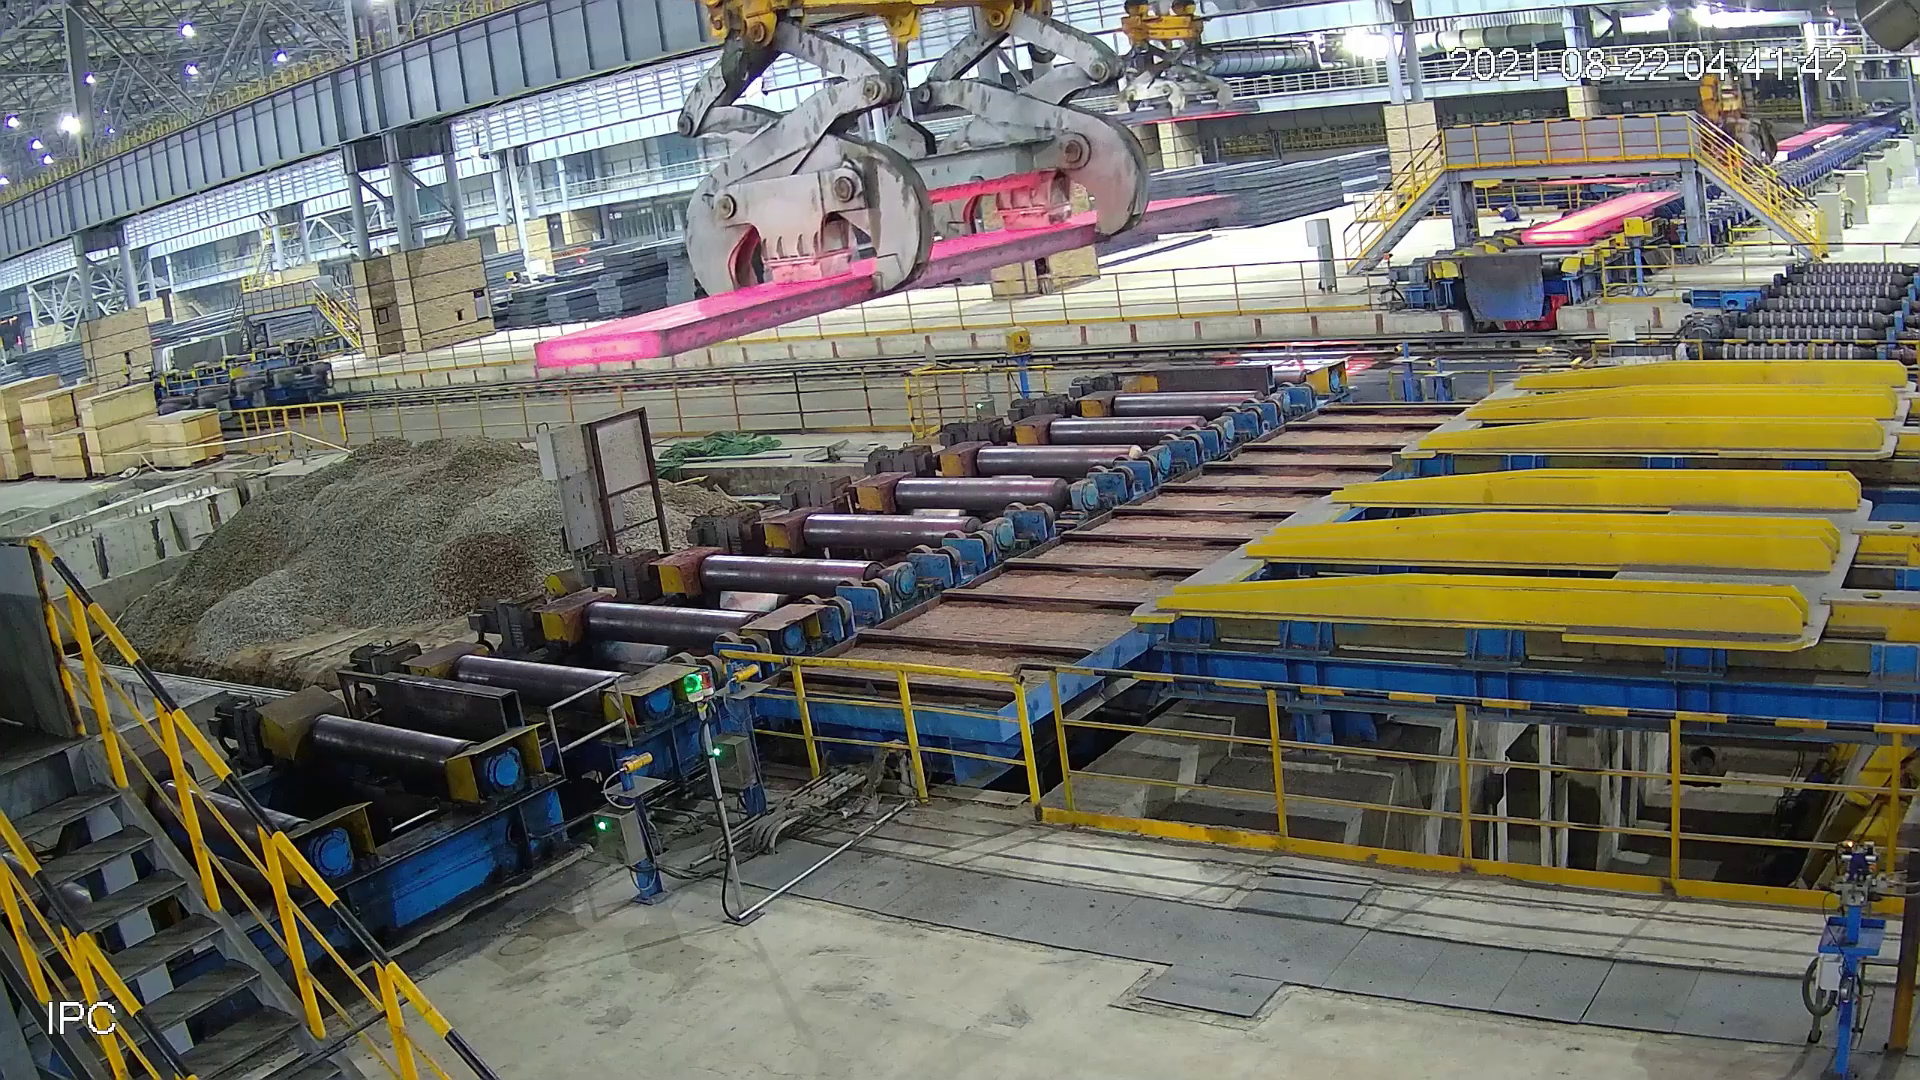craneandslab: (512, 1, 1259, 381)
slab: (1519, 193, 1683, 245)
